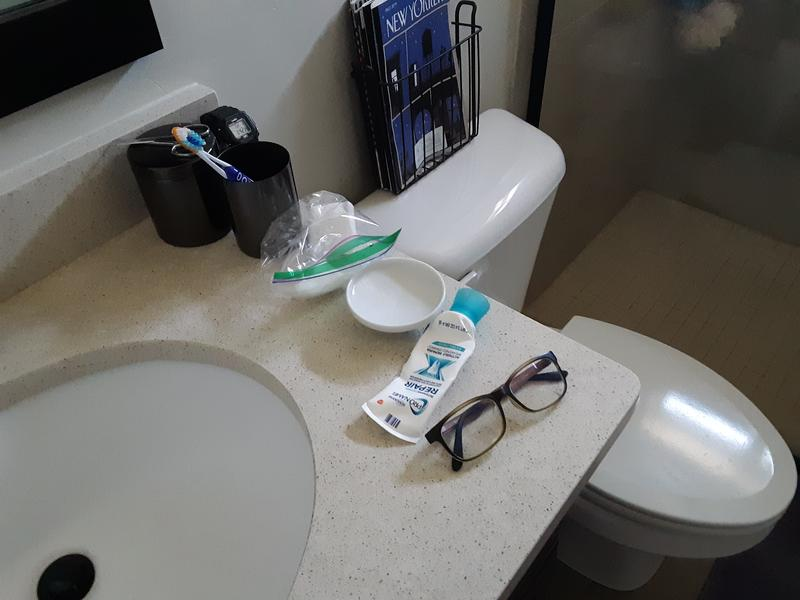glasses: (423, 349, 571, 474)
